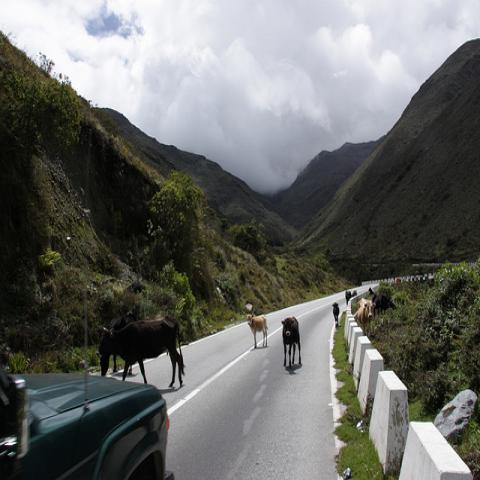truck: (1, 354, 175, 473)
